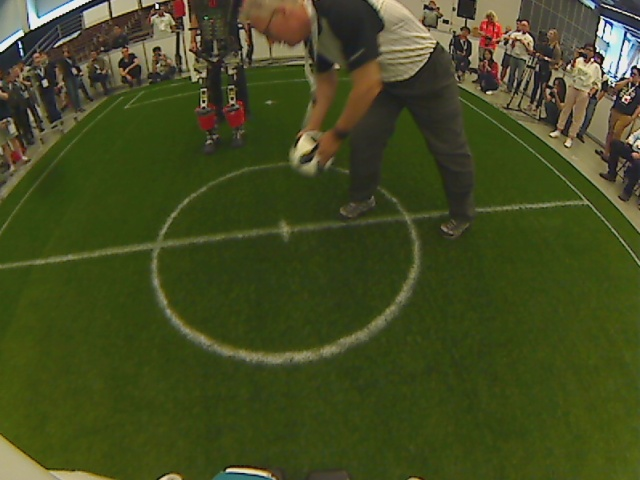ball: (284, 128, 339, 179)
